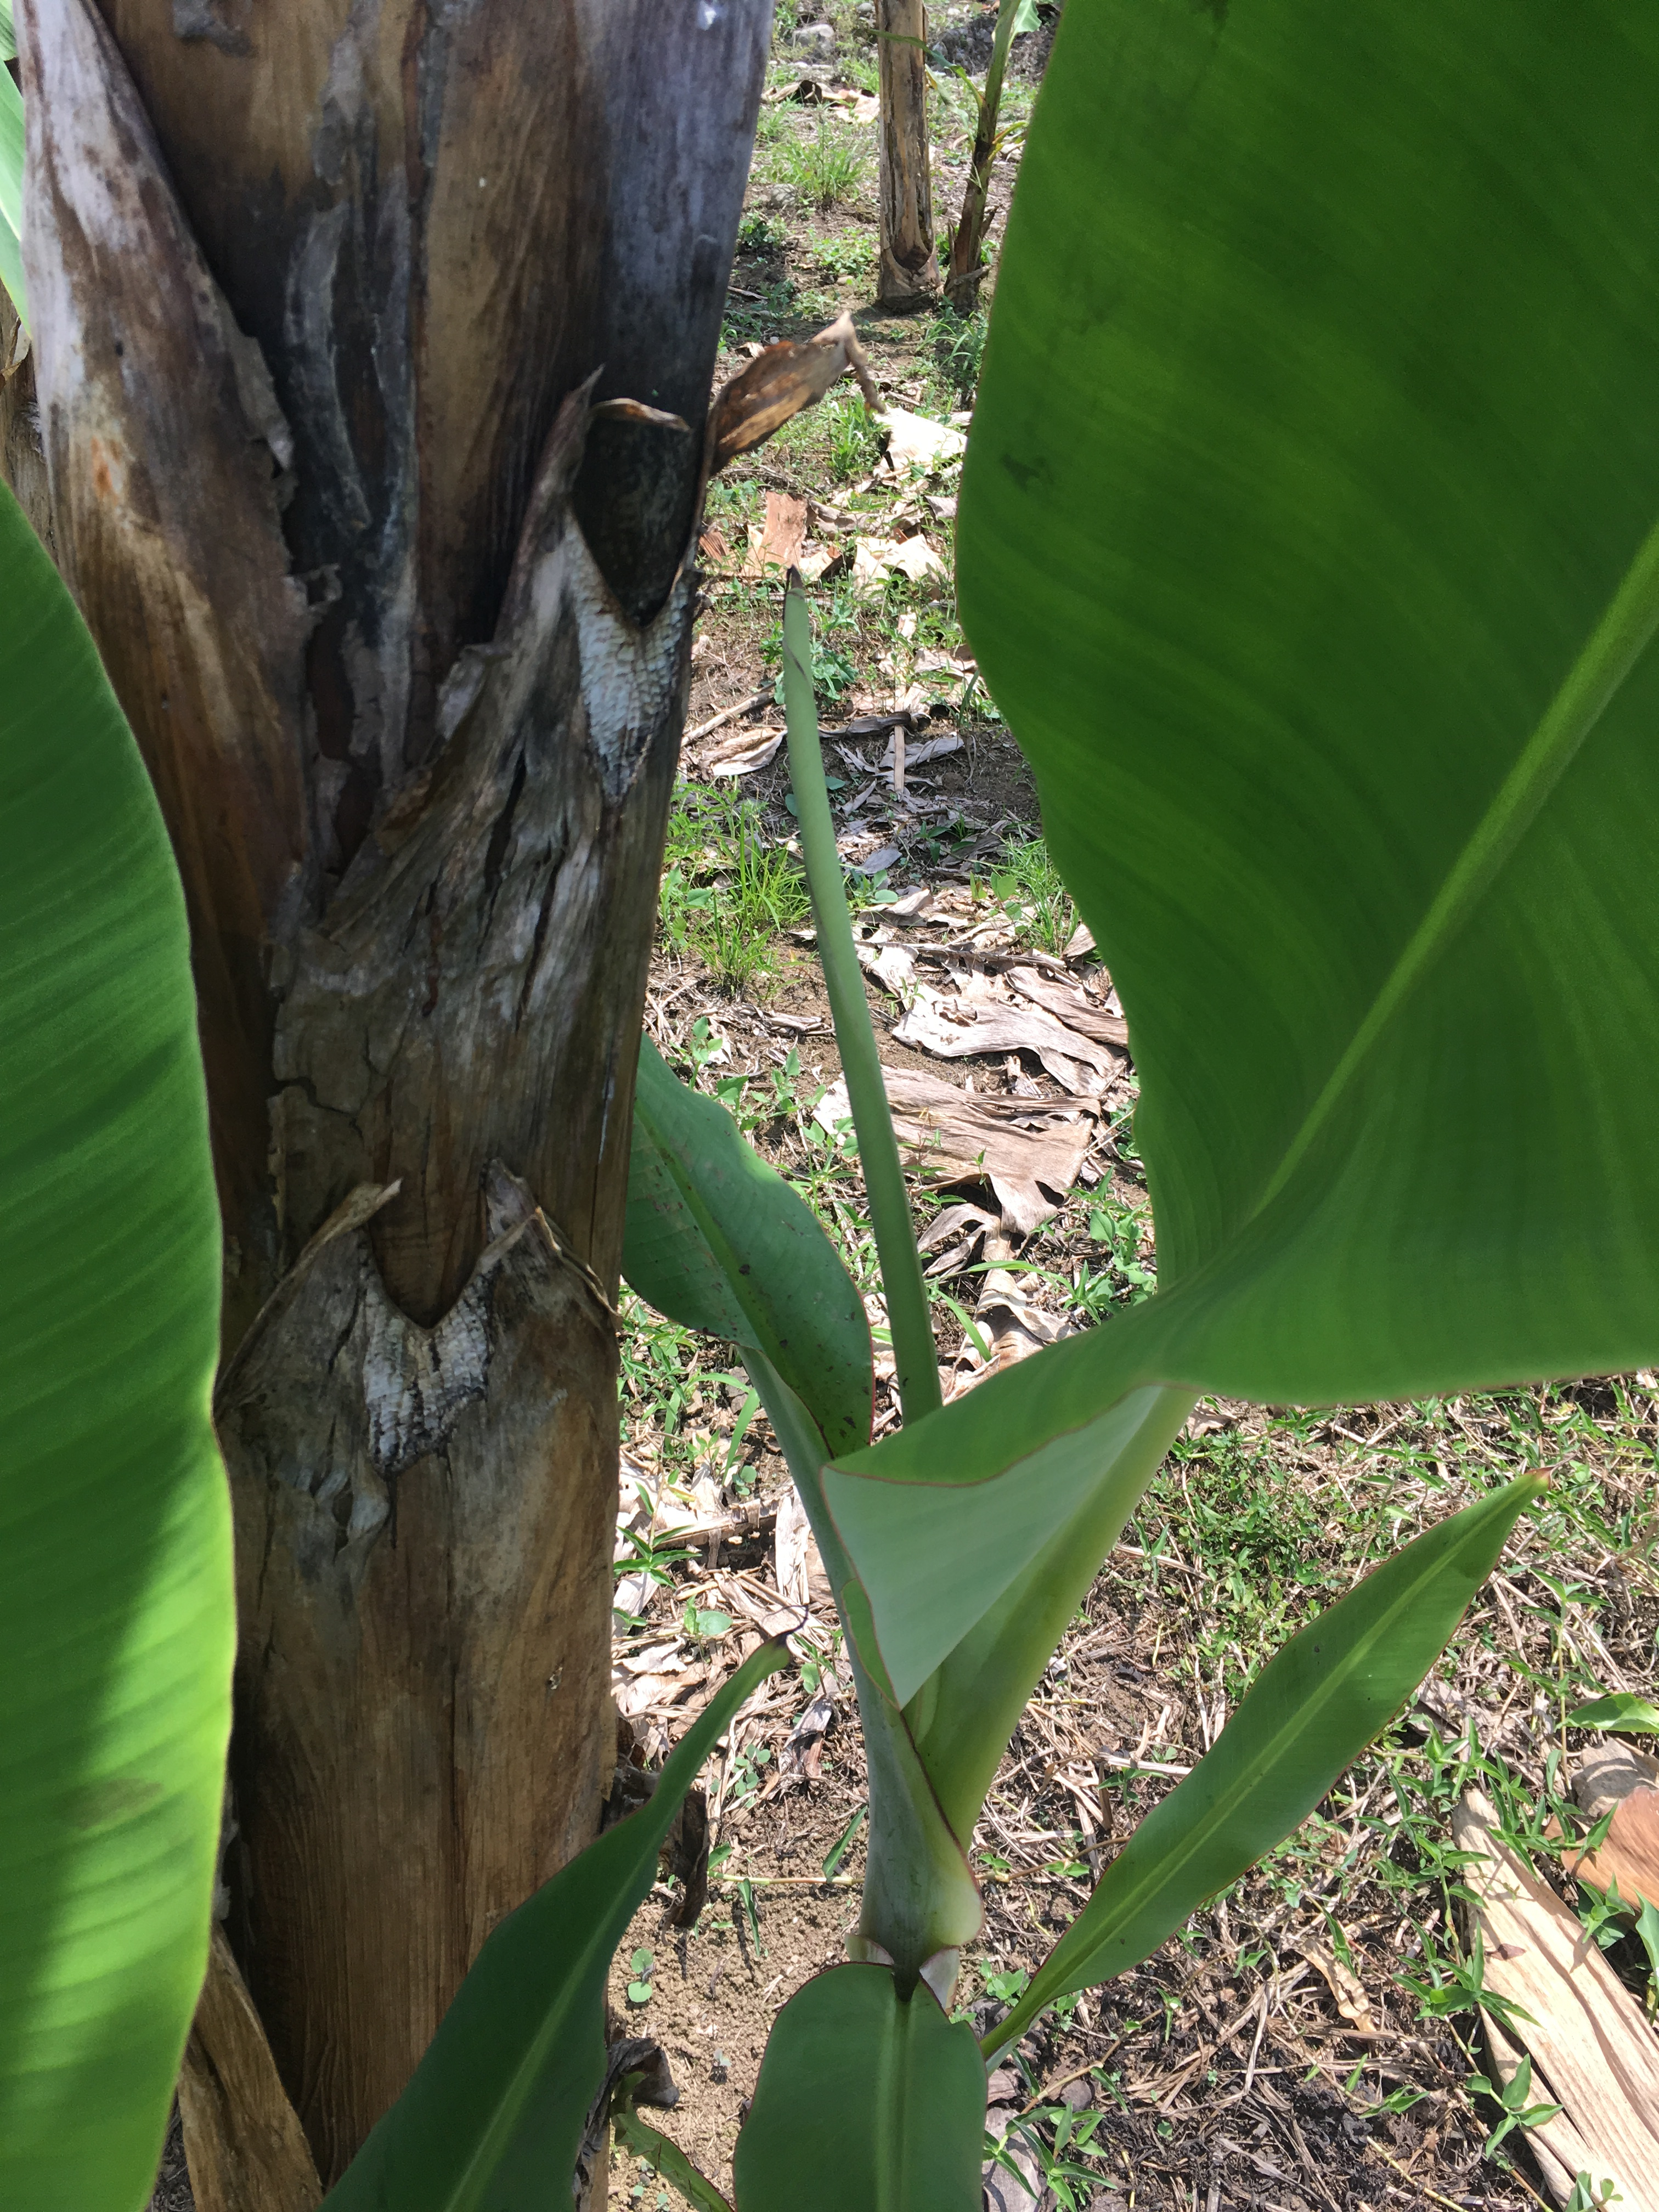candleleafs: (774, 566, 962, 1390)
